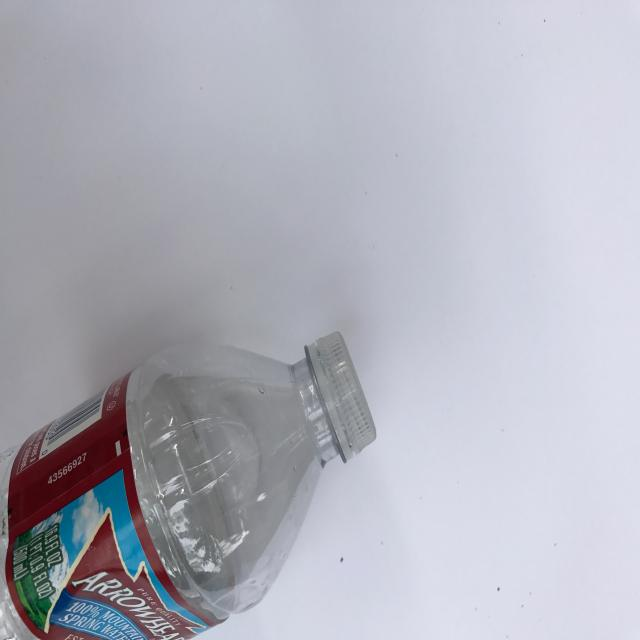Plastic: (0, 274, 395, 640)
